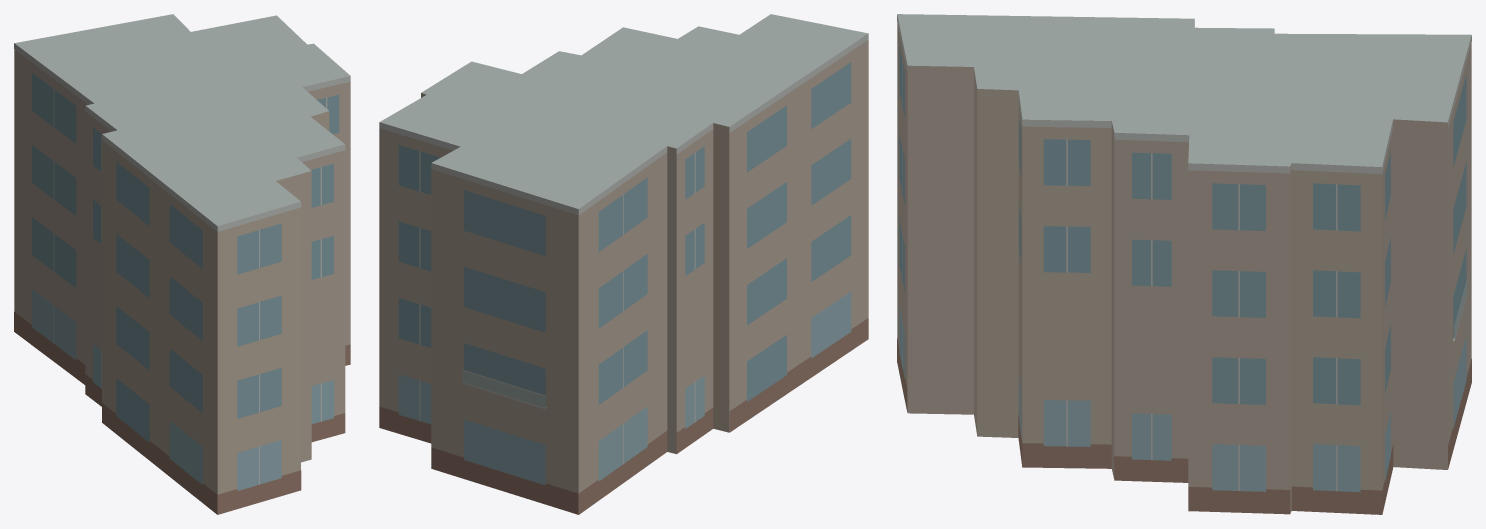
File: survey-upis-32465154.glb
3 renders of one model, left to right at view 1: azimuth 30°, elevation 25°; view 2: azimuth 150°, elevation 25°; view 3: azimuth 270°, elevation 25°, orthographic. The views are drawn at different scales.
Visible parts, largest first — view 1: survey-upis-32465154.tmp; view 2: survey-upis-32465154.tmp; view 3: survey-upis-32465154.tmp.
Boxes of the visible parts, x1,y1,x2,y2 form: survey-upis-32465154.tmp: (14, 14, 350, 514); survey-upis-32465154.tmp: (379, 14, 868, 514); survey-upis-32465154.tmp: (897, 14, 1471, 514).
Bounding box in the file's own units: 11.53 × 12.2 × 18.28.
